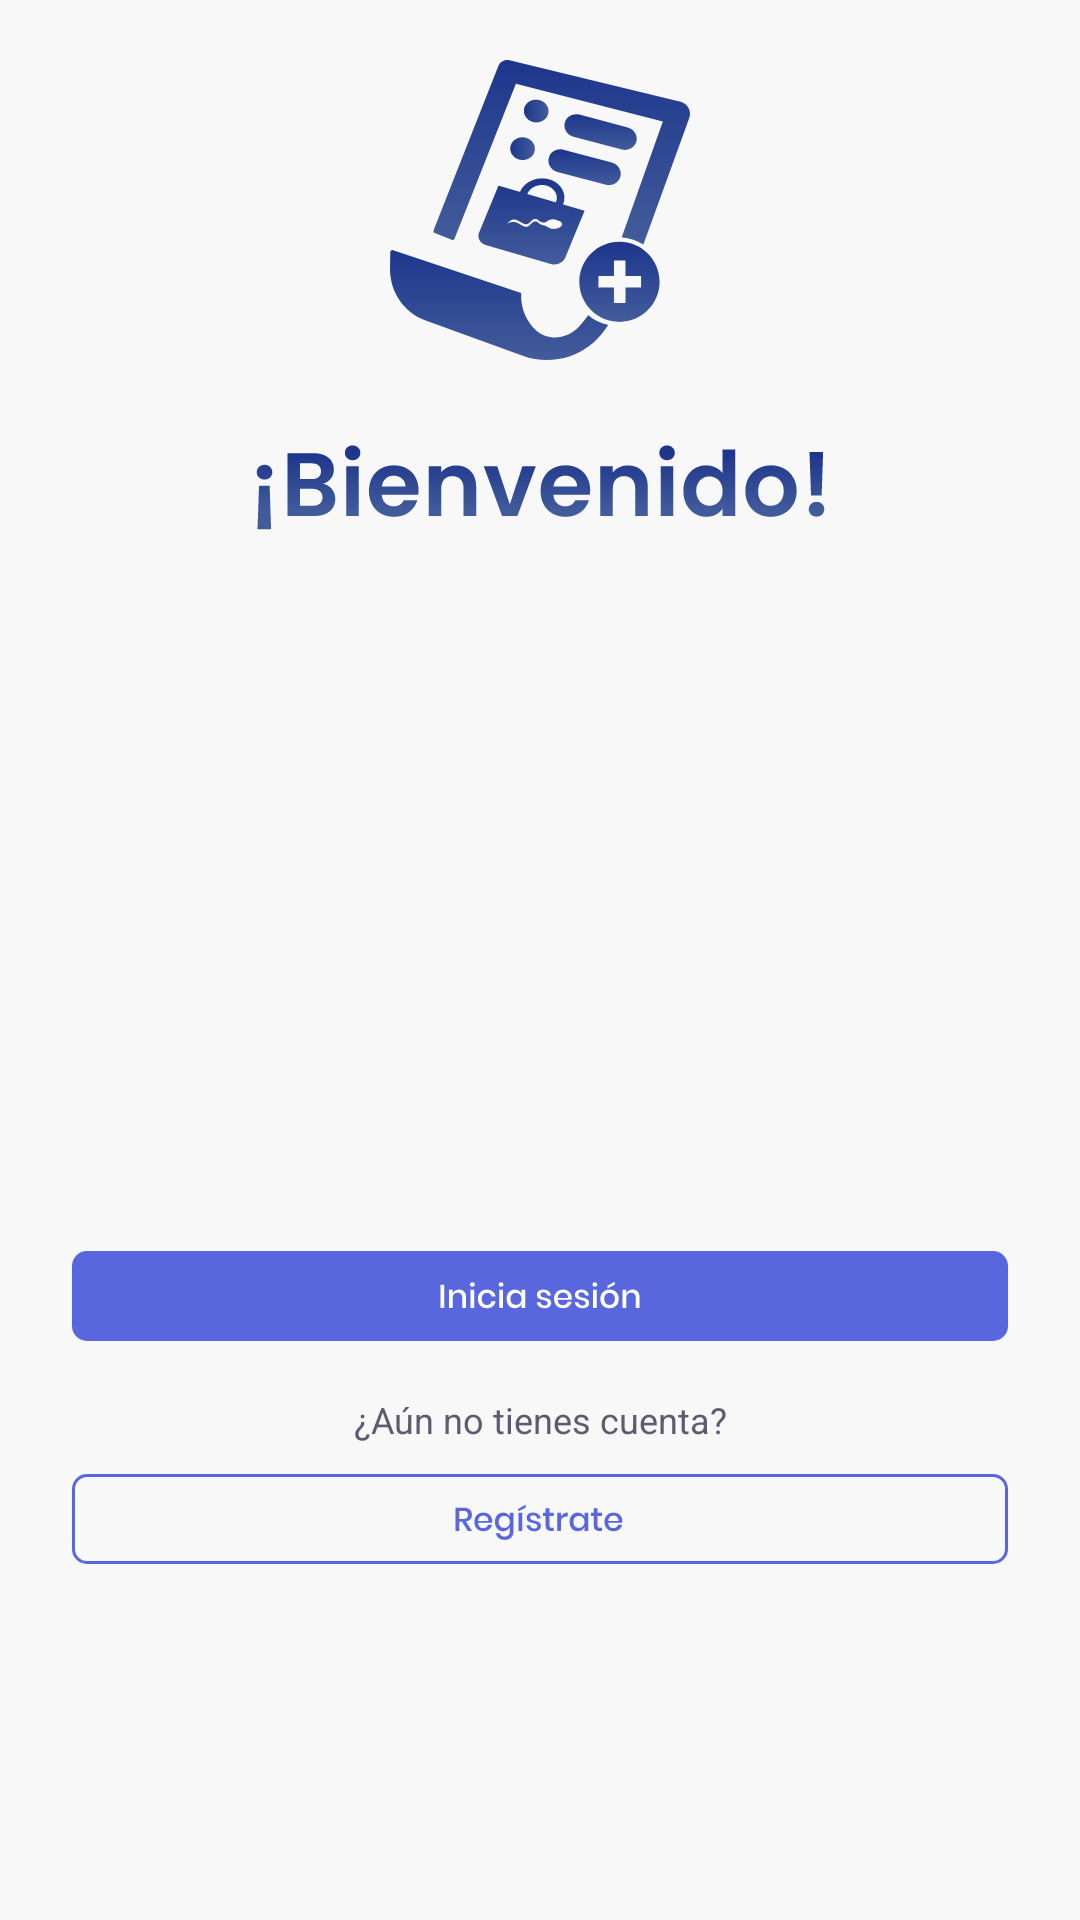

Point at icon controls on the screen. Image size 1080w x 1920h, points as (x=x, y=y).
pedidos azul: (x=540, y=210)
